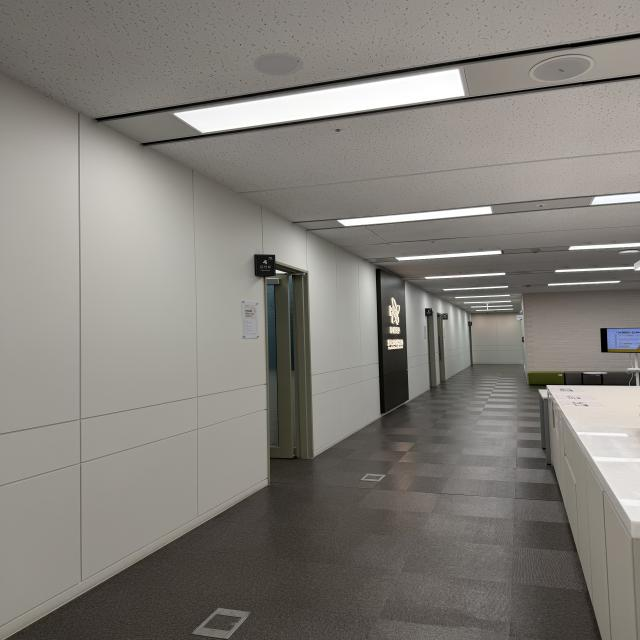sign: (257, 255, 274, 277)
